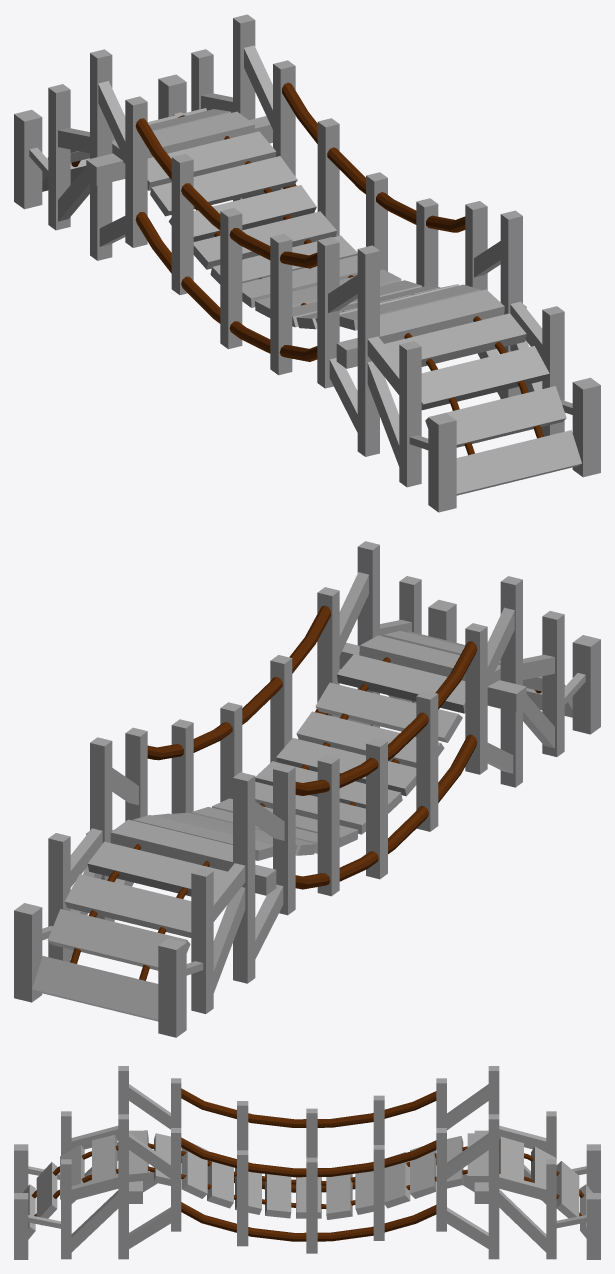
File: SmolBridge.fbx
3 renders of one model, top to bottom at view 1: azimuth 30°, elevation 25°; view 2: azimuth 150°, elevation 25°; view 3: azimuth 270°, elevation 25°, orthographic. The views are drawn at different scales.
Parts seen in each view (by area): view 1: pCylinder191; view 2: pCylinder191; view 3: pCylinder191.
Part boxes in pixels (box(x1,y1,x2,y2)): pCylinder191: box(14, 14, 600, 512); pCylinder191: box(14, 541, 600, 1037); pCylinder191: box(14, 1066, 600, 1259).
Size of the model in its own units: 444 by 477 by 1814.
